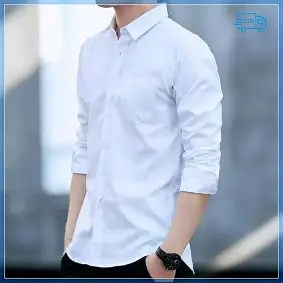kemeja_benar: (63, 12, 227, 250)
